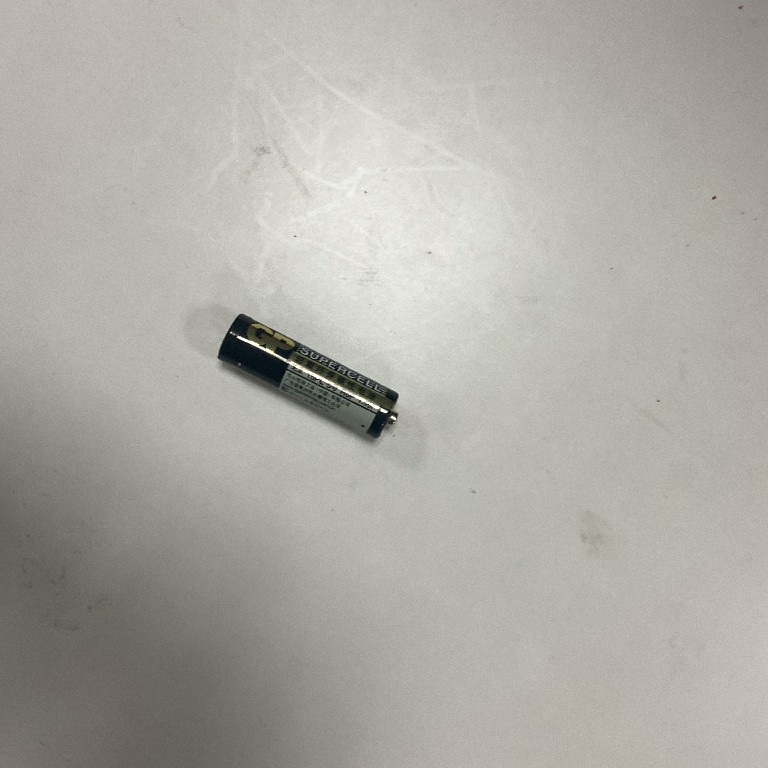charge: (209, 305, 411, 444)
